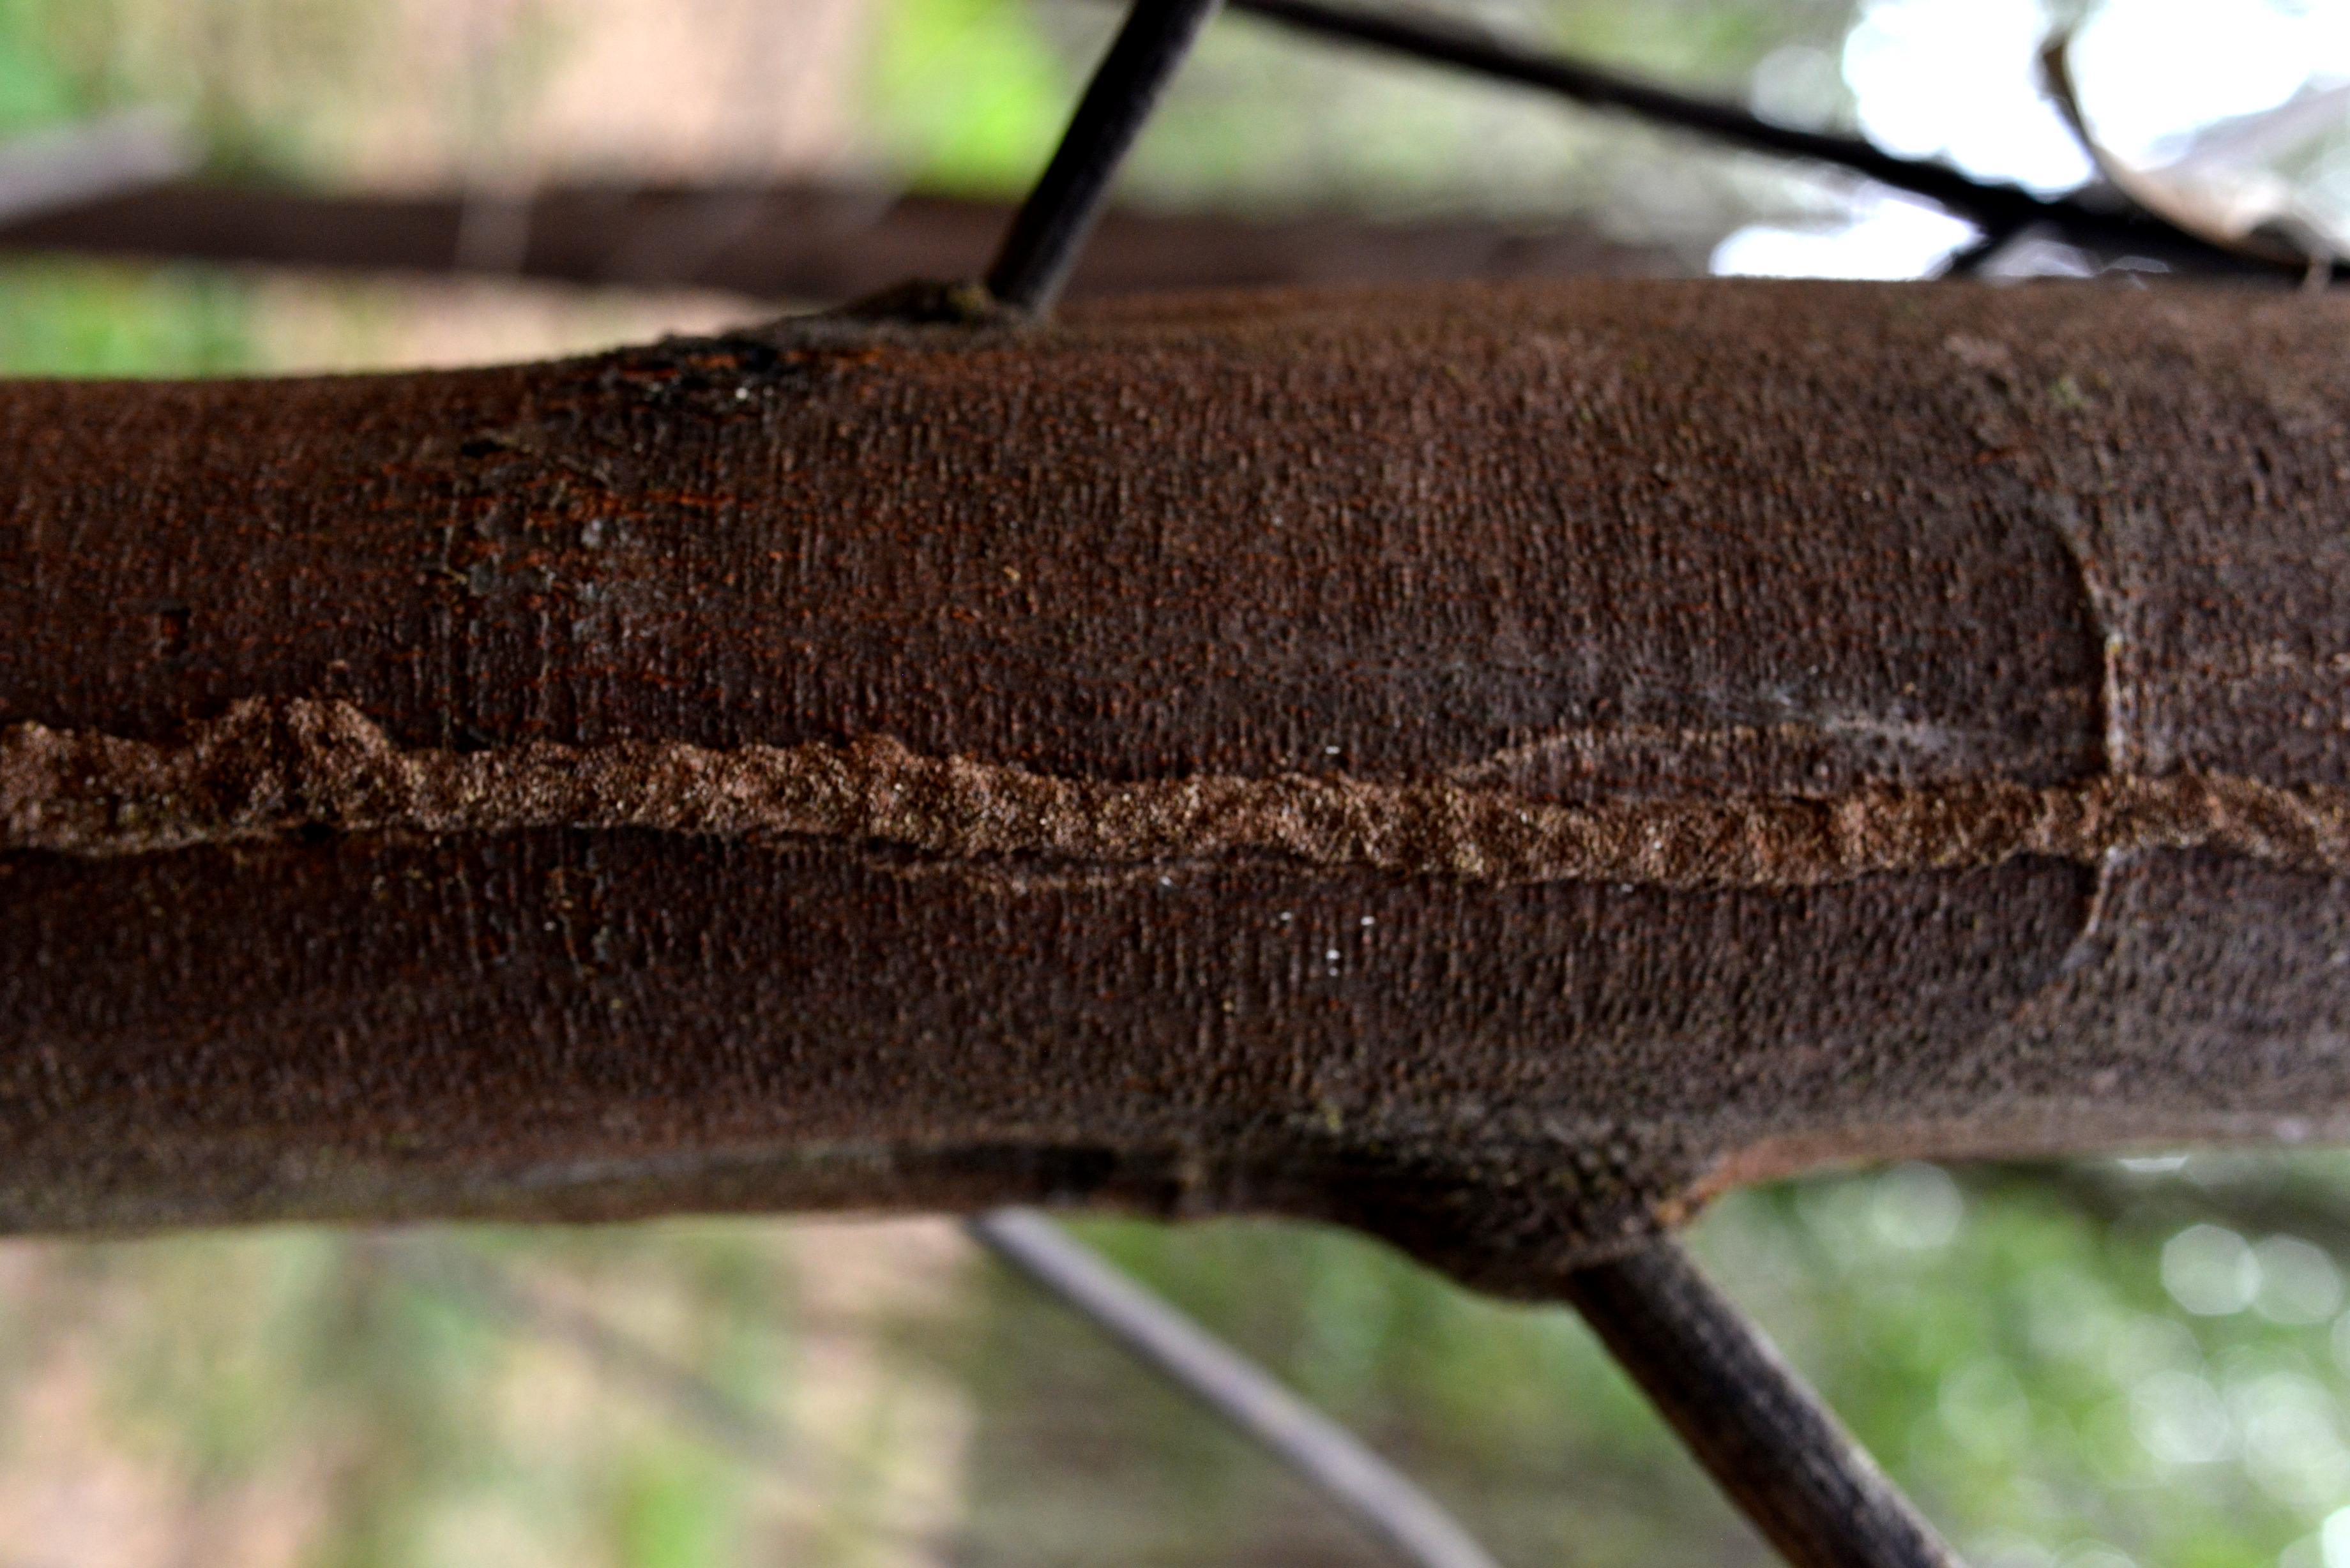Termite - Nest: (0, 674, 2350, 915)
